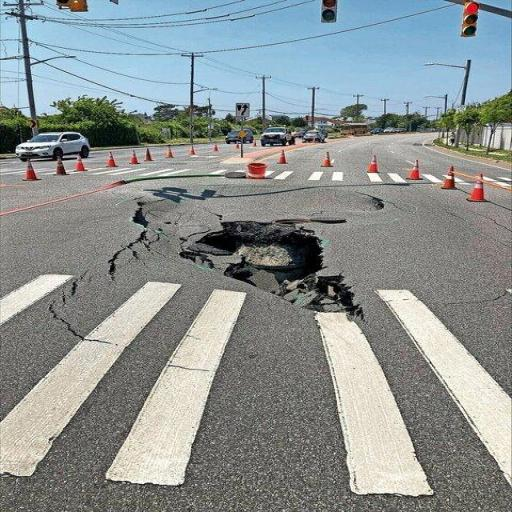Concentric_Crack: (49, 184, 383, 348)
